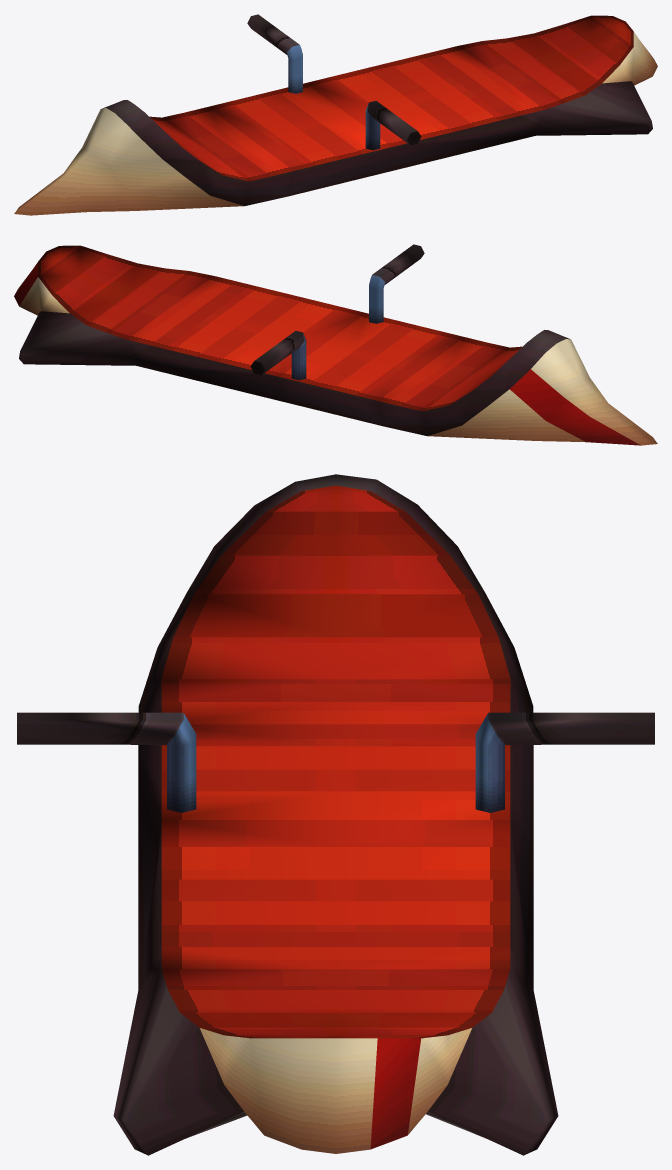
The model's file is Lowrider.glb.
The picture shows the model from 3 angles, top to bottom: view 1: azimuth 30°, elevation 25°; view 2: azimuth 150°, elevation 25°; view 3: azimuth 270°, elevation 25°; orthographic projection. The views are drawn at different scales.
Visible parts, largest first — view 1: Lowrider; view 2: Lowrider; view 3: Lowrider.
Part boxes in pixels (x1=…): Lowrider: x1=14, y1=14, x2=657, y2=215; Lowrider: x1=14, y1=244, x2=657, y2=445; Lowrider: x1=17, y1=474, x2=654, y2=1155.
Bounding box in the file's own units: 12.82 × 2.03 × 5.53.
Materials: 1 (1 with a texture image).
